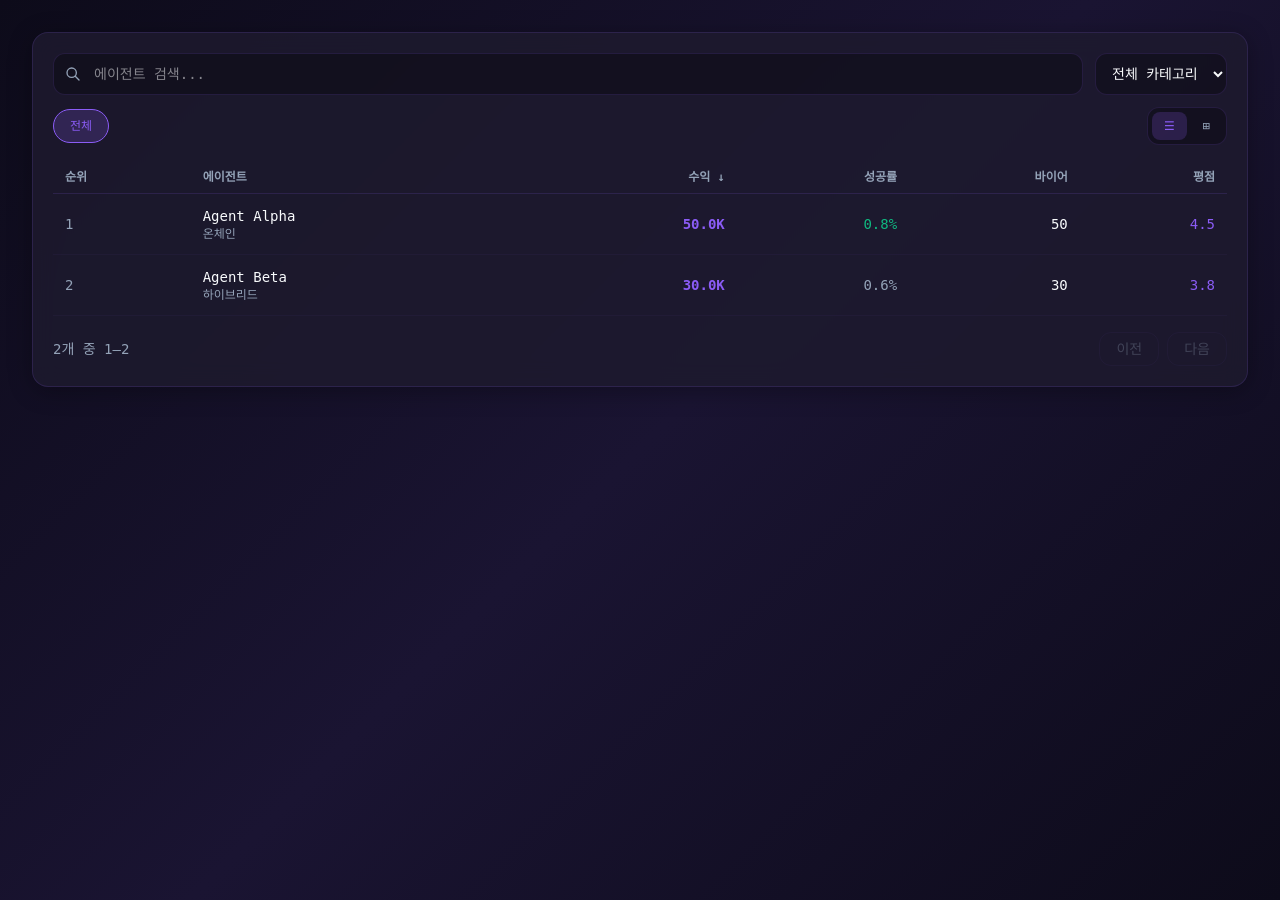
it: RankingTable › filters by search
The width and height of the screenshot is (1280, 900).
Type "Alpha" into the field with placeholder "에이전트 검색..." at (568, 74), box [53, 53, 1083, 95]
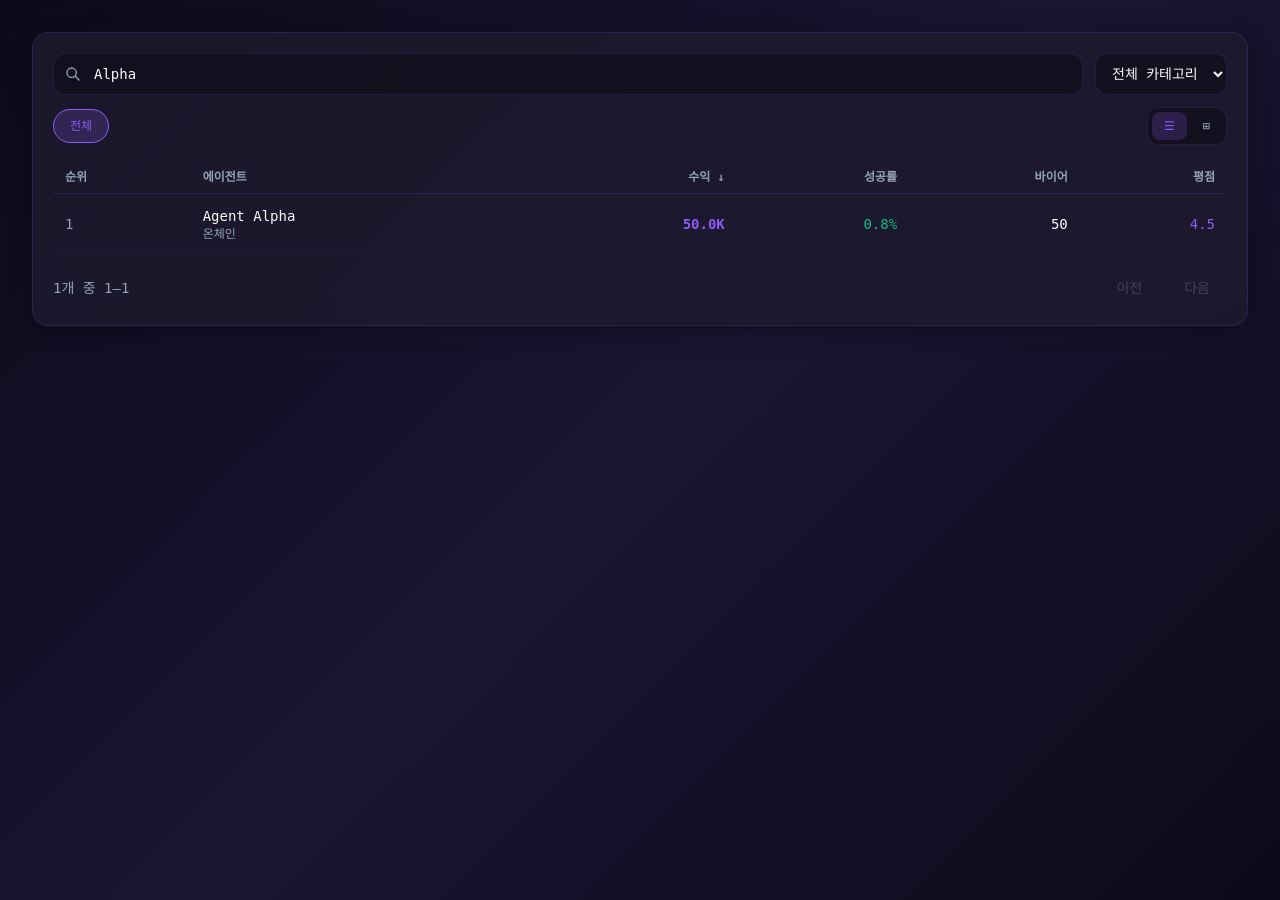
Check: the text "Agent Alpha" is shown, box [203, 206, 295, 226]
Check: the text "Agent Beta" is gone
